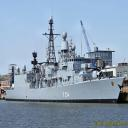Fragata: (4, 11, 127, 108)
